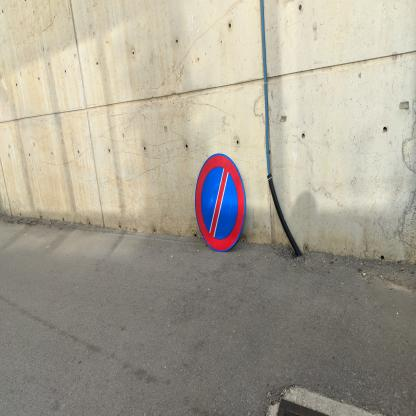No Waiting: (196, 153, 247, 255)
